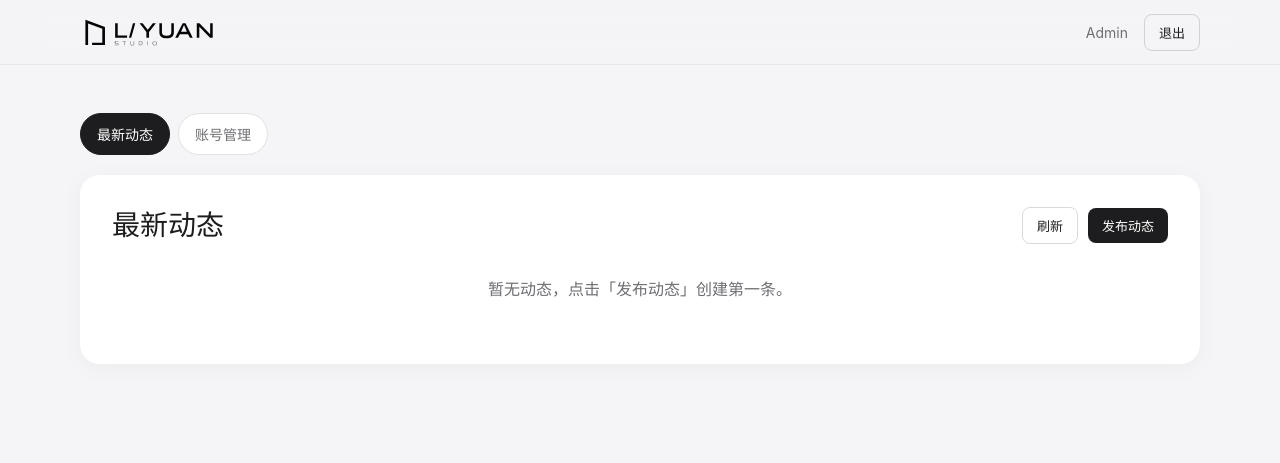
Test: AdminPage › loads and displays users for admin
Click the tab "账号管理" at (223, 134), box [178,113,268,155]
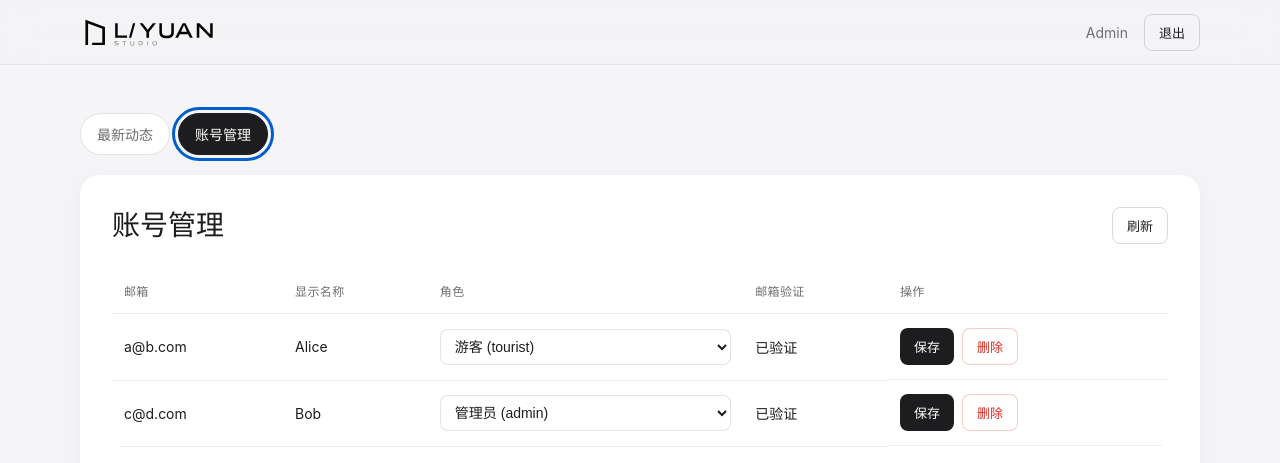
expect the text "Alice" is shown: met, box [283,314,428,380]
expect the text "a@b.com" is shown: met, box [112,314,283,380]
expect the text "Bob" is shown: met, box [283,380,428,446]
